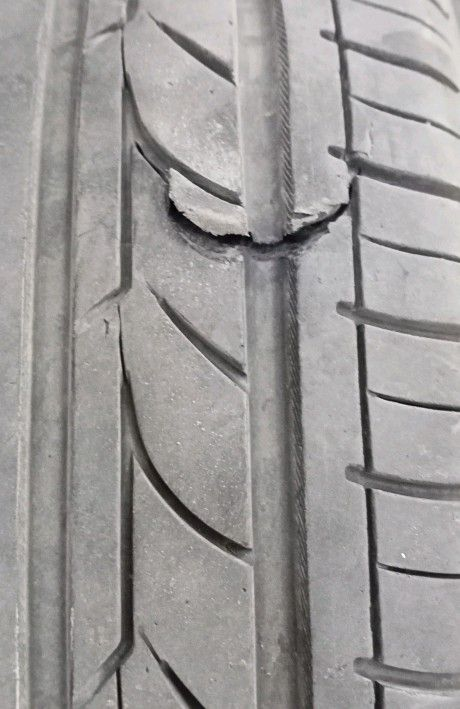tr: (123, 132, 364, 266)
